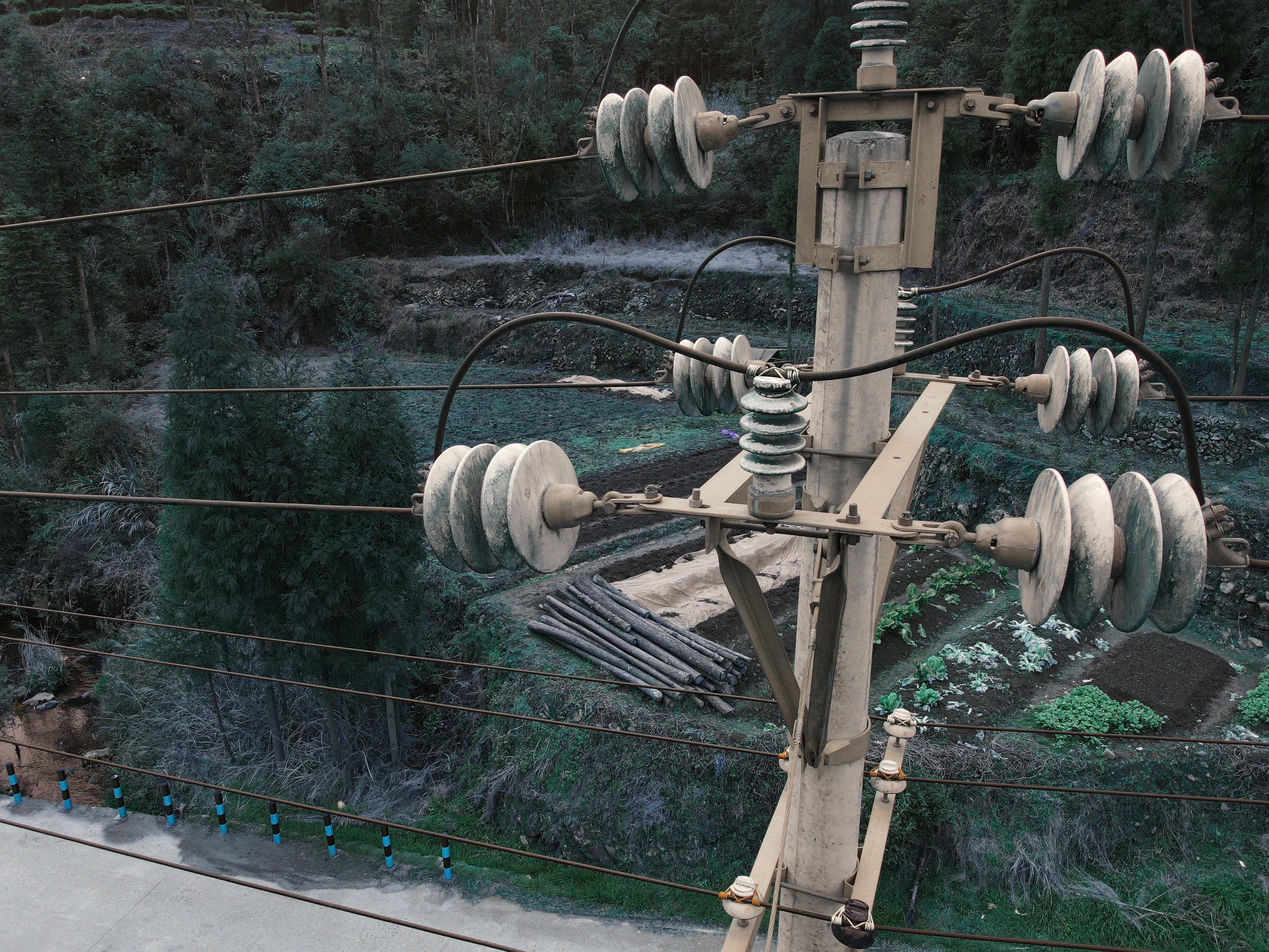severe_soiling_no_discharge_whole: (981, 466, 1213, 634), (1033, 41, 1212, 188), (418, 436, 597, 575), (590, 69, 743, 205), (1010, 343, 1146, 440), (734, 370, 809, 516), (670, 334, 755, 418), (845, 3, 912, 88), (892, 287, 921, 351), (867, 760, 908, 796)
